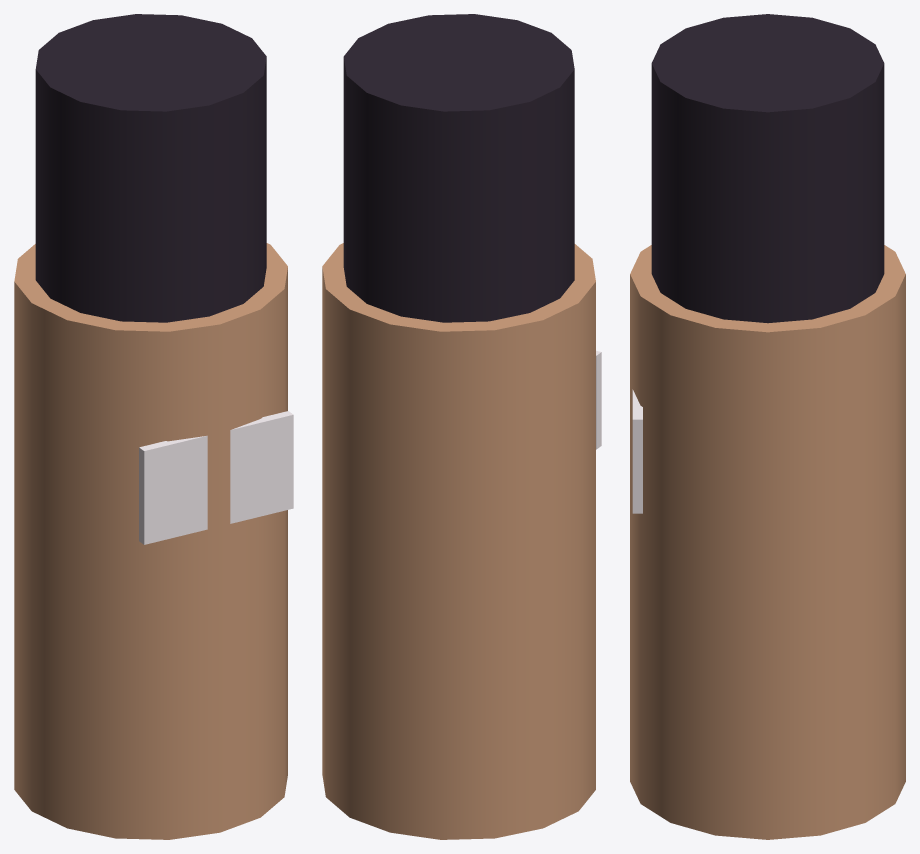
Rendered from TRD-01-10.glb.
3 renders of one model, left to right at view 1: azimuth 30°, elevation 25°; view 2: azimuth 150°, elevation 25°; view 3: azimuth 270°, elevation 25°, orthographic.
Visible parts, largest first — view 1: TRD-01-10; view 2: TRD-01-10; view 3: TRD-01-10.
Part boxes in pixels (x1=…): TRD-01-10: x1=14, y1=14, x2=293, y2=839; TRD-01-10: x1=322, y1=14, x2=601, y2=839; TRD-01-10: x1=630, y1=14, x2=905, y2=839.
Bounding box in the file's own units: 0.32 × 0.92 × 0.32.
